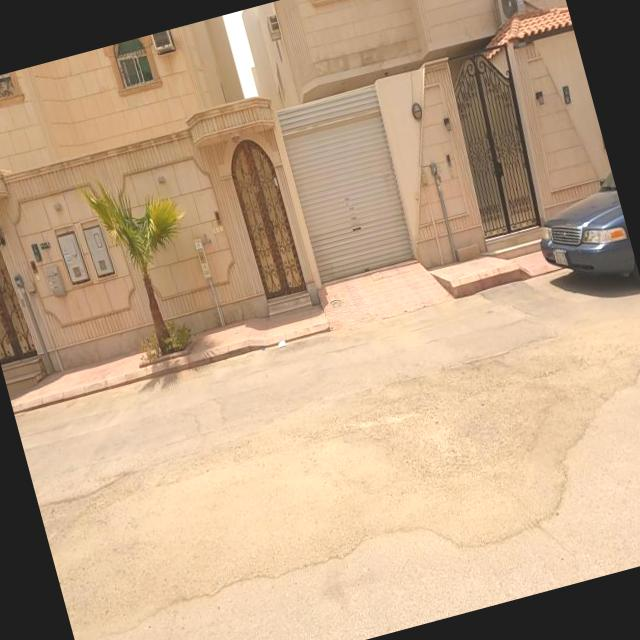debris: (250, 304, 312, 389)
